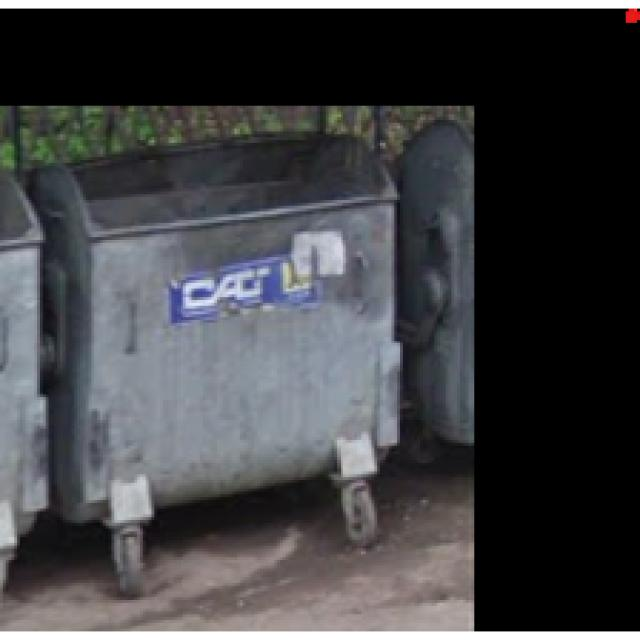general wastetrash bin: (16, 136, 420, 592)
